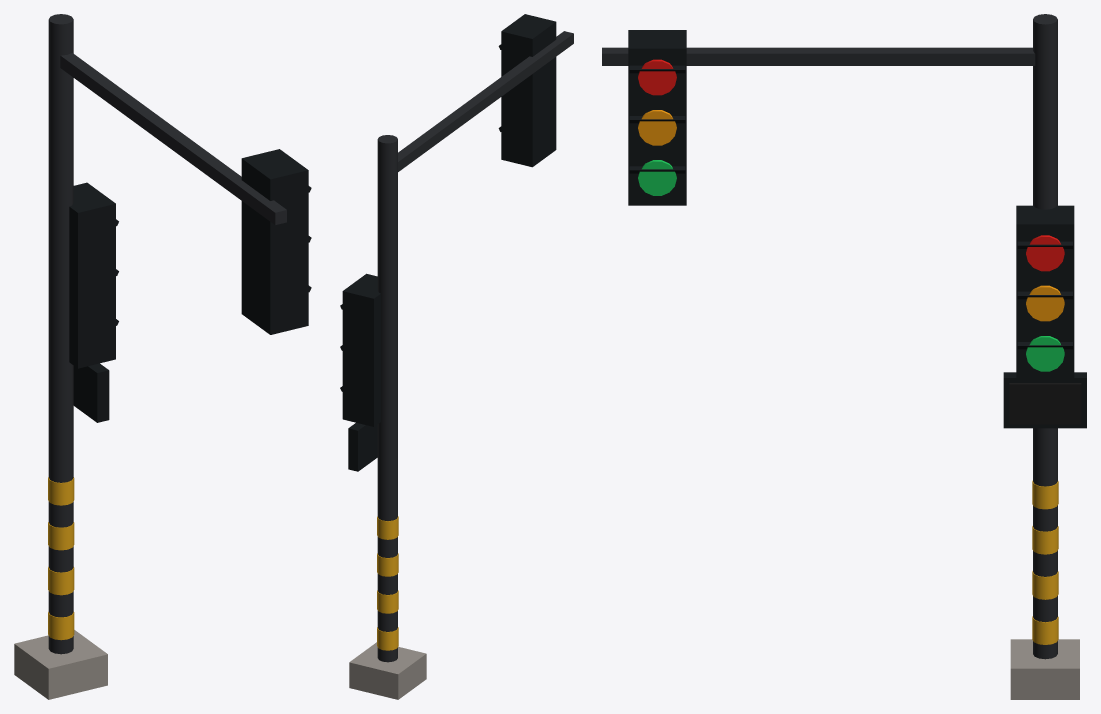
File: signal_pole.glb
The picture shows the model from 3 angles, left to right: view 1: azimuth 30°, elevation 25°; view 2: azimuth 150°, elevation 25°; view 3: azimuth 270°, elevation 25°; orthographic projection. The views are drawn at different scales.
Visible parts, largest first — view 1: signal_pole, signal_head_arm, signal_head_pole, countdown_panel; view 2: signal_pole, signal_head_arm, signal_head_pole, countdown_panel; view 3: signal_pole, signal_head_arm, signal_head_pole, countdown_panel, lamp_amber_arm, lamp_green_arm, lamp_green_pole, lamp_amber_pole, lamp_red_arm, lamp_red_pole.
Part boxes in pixels (x1=…): signal_pole: x1=14, y1=14, x2=286, y2=699; signal_head_arm: x1=241, y1=149, x2=311, y2=334; signal_head_pole: x1=69, y1=182, x2=118, y2=368; countdown_panel: x1=73, y1=363, x2=109, y2=422; signal_pole: x1=349, y1=31, x2=573, y2=699; signal_head_arm: x1=498, y1=14, x2=556, y2=167; signal_head_pole: x1=340, y1=273, x2=380, y2=426; countdown_panel: x1=348, y1=422, x2=377, y2=471; signal_pole: x1=602, y1=14, x2=1079, y2=699; signal_head_arm: x1=628, y1=30, x2=686, y2=205; signal_head_pole: x1=1016, y1=205, x2=1074, y2=381; countdown_panel: x1=1003, y1=372, x2=1086, y2=428; lamp_amber_arm: x1=638, y1=110, x2=676, y2=145; lamp_green_arm: x1=638, y1=160, x2=676, y2=195; lamp_green_pole: x1=1026, y1=336, x2=1064, y2=371; lamp_amber_pole: x1=1026, y1=285, x2=1064, y2=321; lamp_red_arm: x1=638, y1=59, x2=676, y2=95; lamp_red_pole: x1=1026, y1=235, x2=1064, y2=271.
Bounding box in the file's own units: 0.6224 × 5.31 × 3.5.
Materials: 1 (1 with a texture image).
